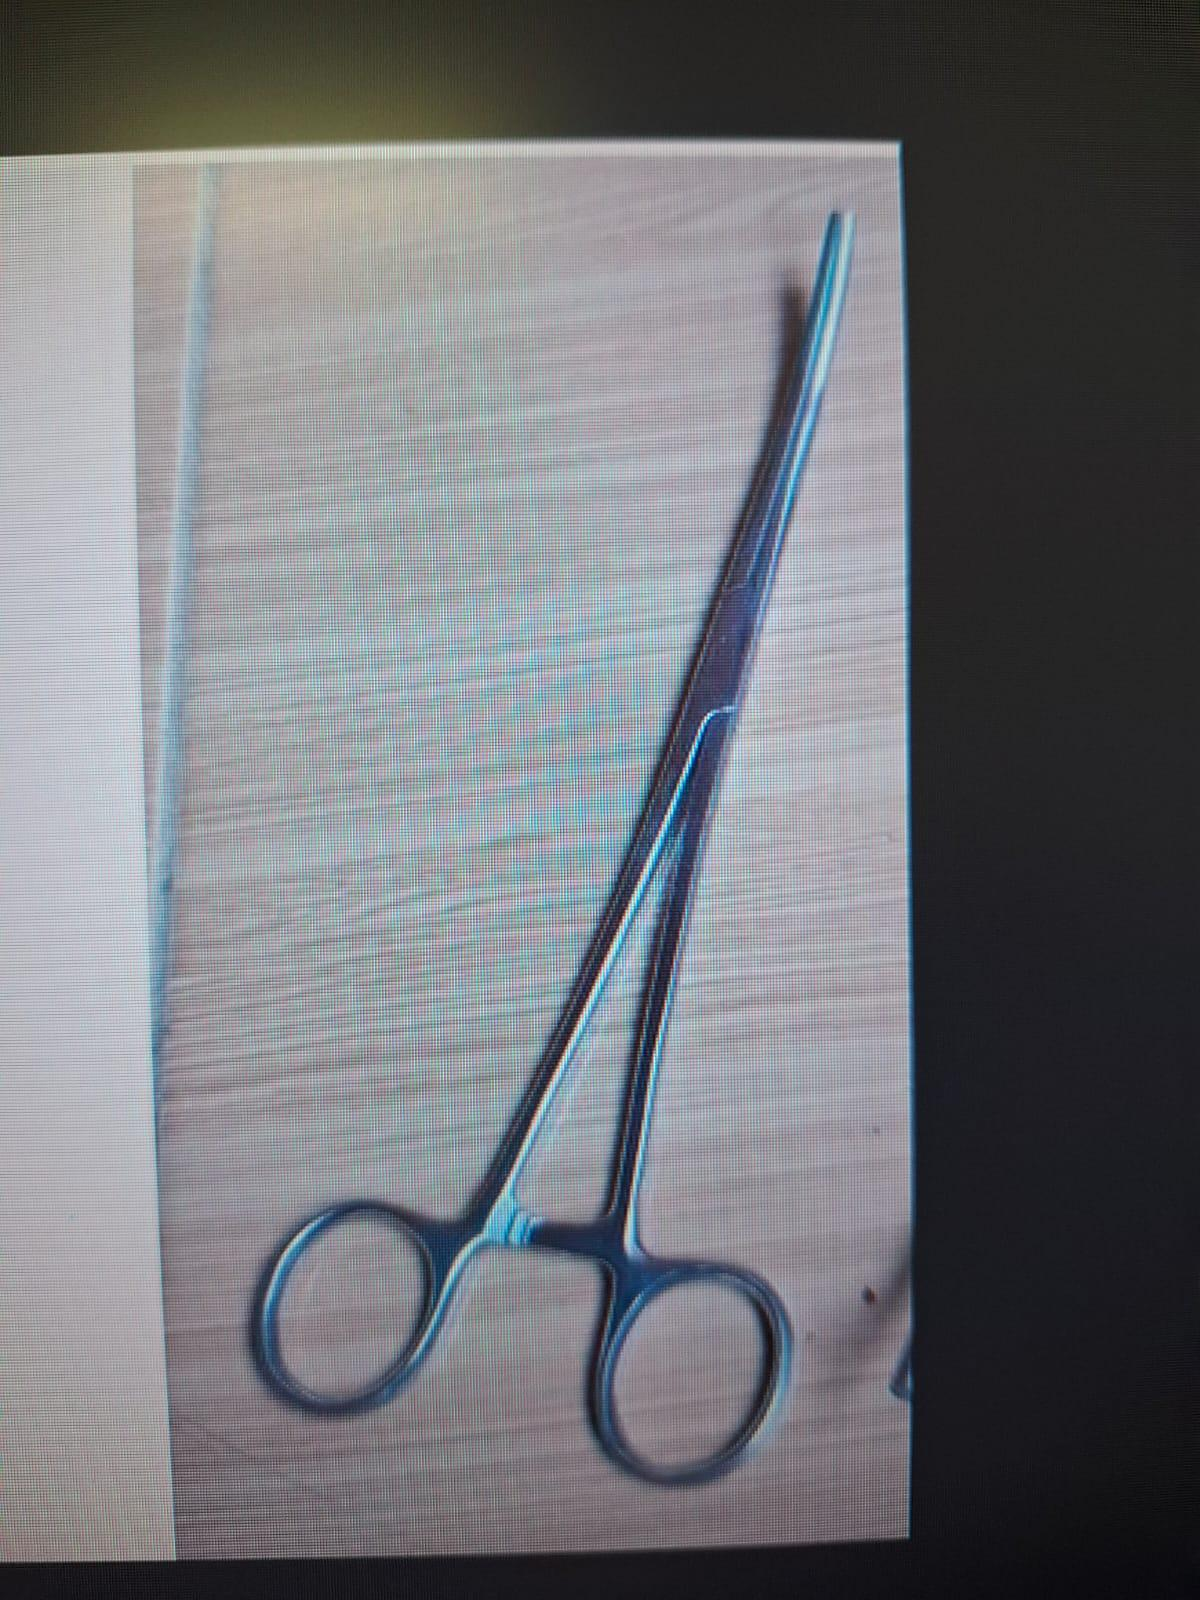Doyel Instestinal Forceps: (232, 188, 865, 1485)
